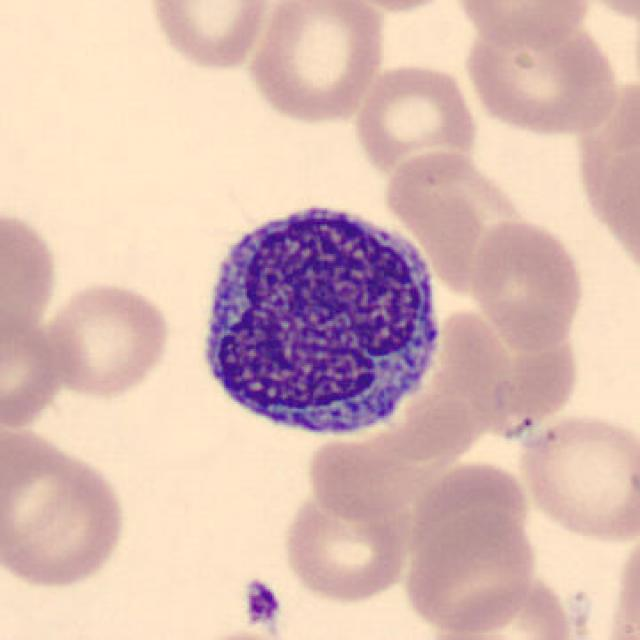Monocyte: (186, 188, 450, 450)
Platelets: (240, 576, 284, 630)
RBC: (0, 425, 132, 594), (459, 11, 622, 139), (243, 0, 389, 127), (384, 148, 520, 284), (400, 508, 539, 634), (512, 409, 638, 545), (38, 277, 174, 402), (468, 215, 586, 351), (279, 488, 414, 605), (357, 61, 488, 180), (404, 457, 535, 568), (575, 81, 640, 260), (304, 430, 421, 524), (0, 199, 62, 372), (423, 575, 576, 640), (142, 0, 276, 74), (0, 300, 66, 434), (450, 0, 596, 51), (611, 518, 640, 638), (165, 626, 308, 640), (407, 626, 544, 640), (329, 0, 464, 14), (563, 0, 640, 24)
